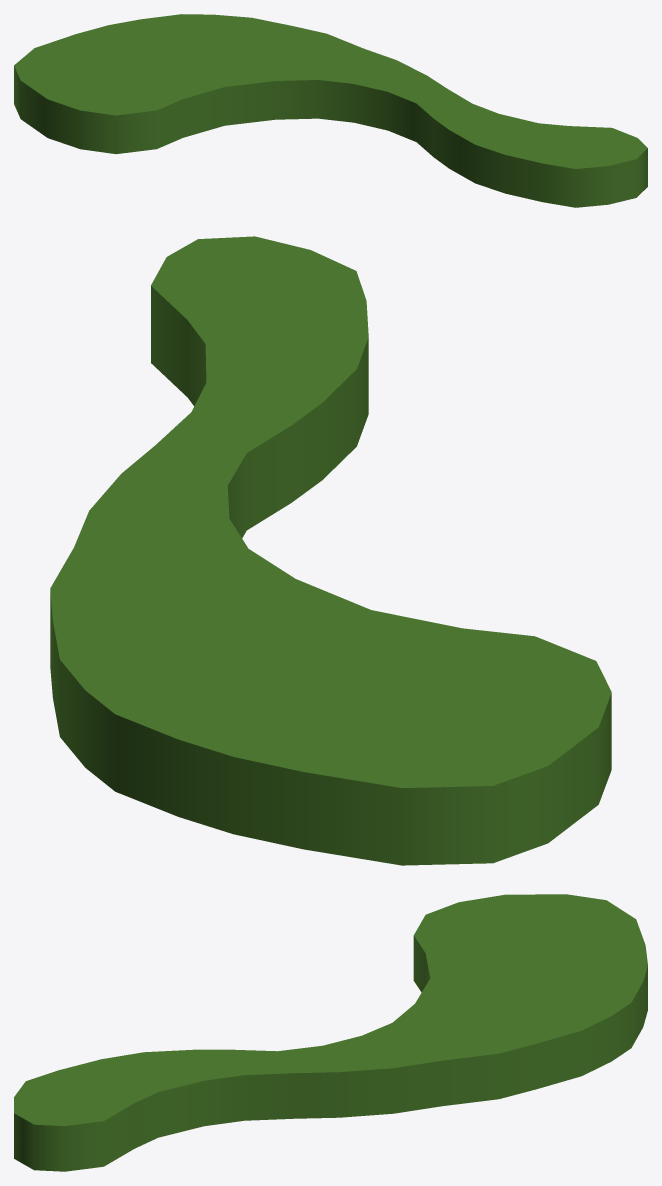
File: Islands_05.fbx
The picture shows the model from 3 angles, top to bottom: view 1: azimuth 30°, elevation 25°; view 2: azimuth 150°, elevation 25°; view 3: azimuth 270°, elevation 25°; orthographic projection. The views are drawn at different scales.
Visible parts, largest first — view 1: Island_05; view 2: Island_05; view 3: Island_05.
Boxes of the visible parts, x1=… form: Island_05: x1=14, y1=14, x2=647, y2=207; Island_05: x1=50, y1=236, x2=611, y2=865; Island_05: x1=14, y1=894, x2=647, y2=1171.
Bounding box in the file's own units: 1670 × 153 × 1929.
